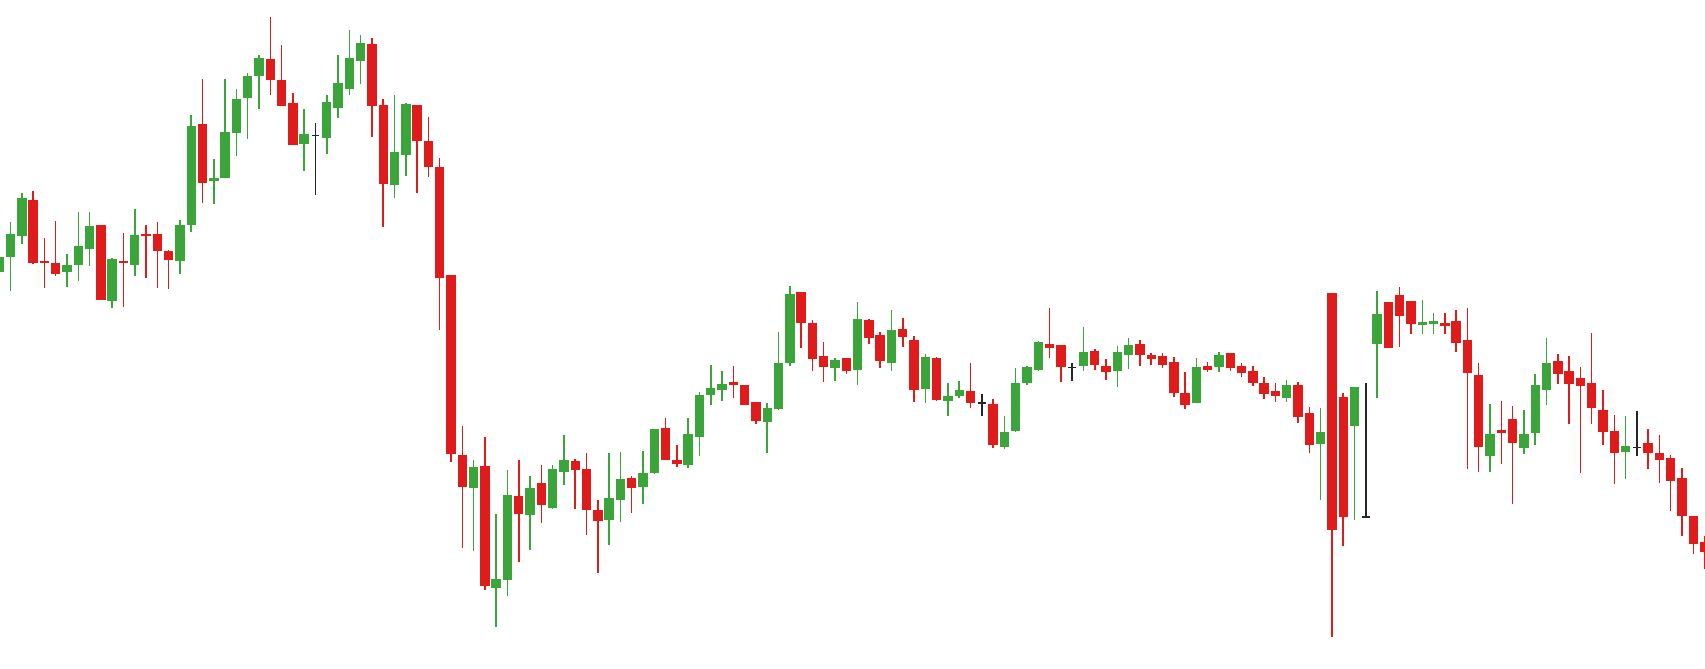sell: (276, 29, 381, 109)
